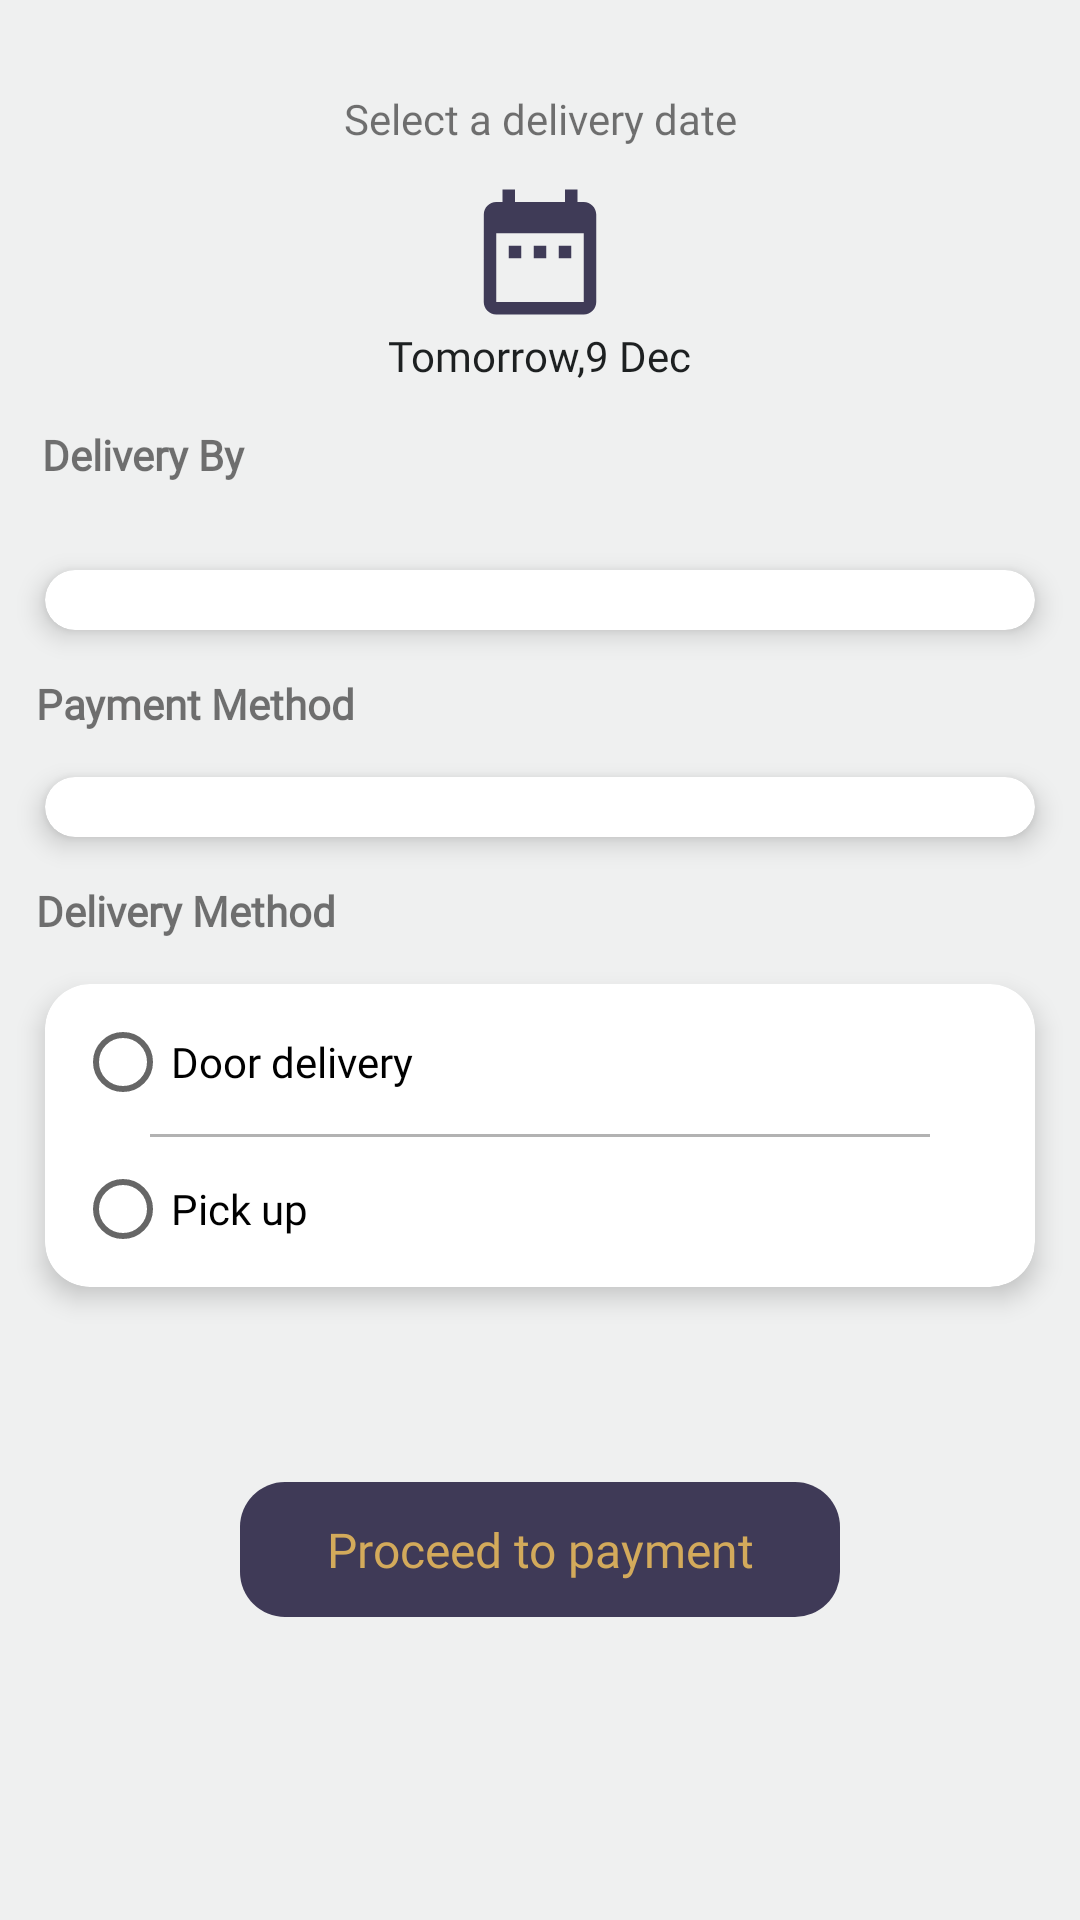

Named icons in this screenshot (1080w x 1920h) and their bounding boxes, box=[x1, y1, x2, y2]:
date range: box=[483, 189, 597, 315]
